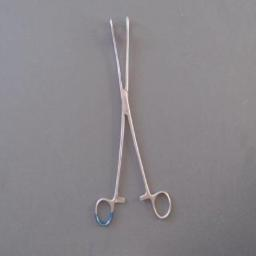Sponge Forceps: (92, 6, 176, 232)
